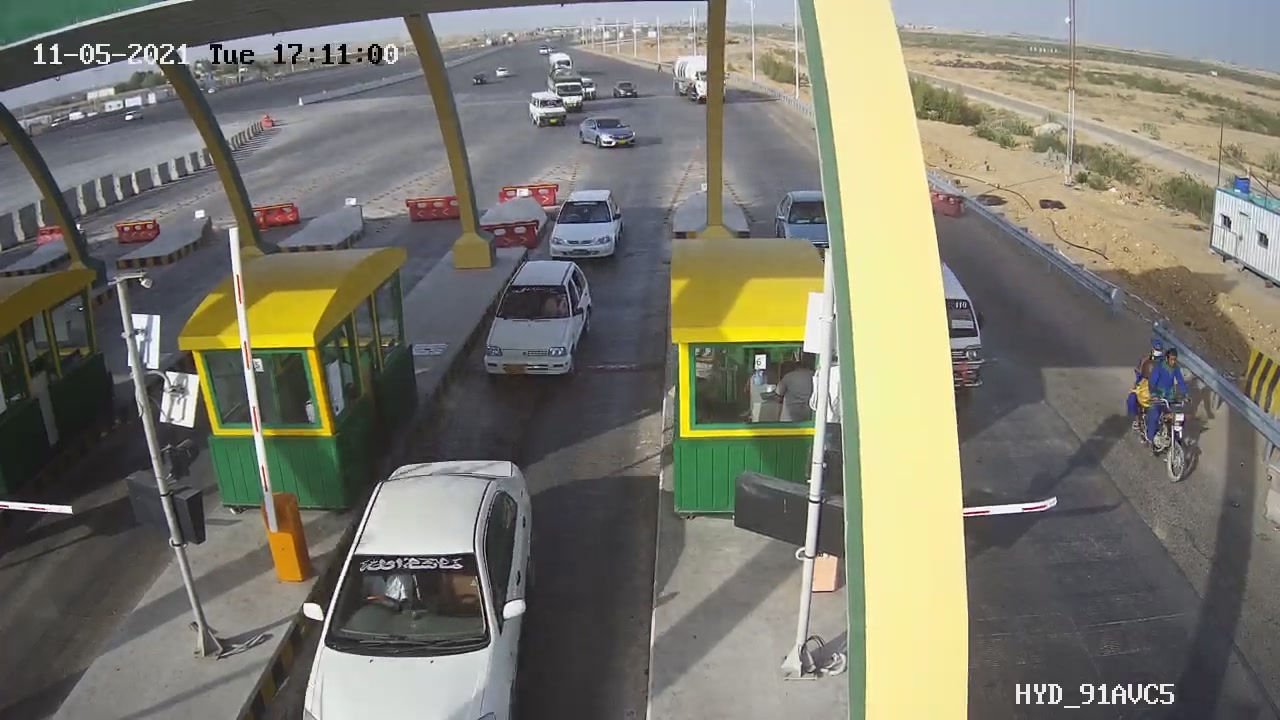F1: (474, 253, 607, 390), (539, 178, 634, 274)
